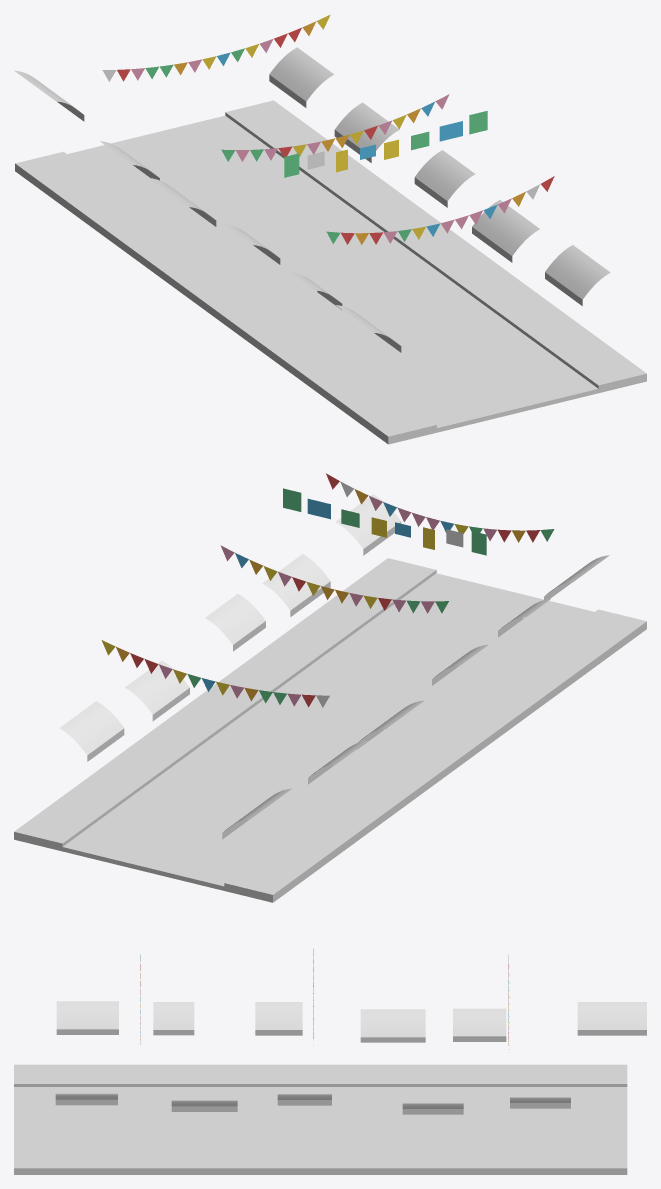
The model's file is Harita_09_Mahalle_Kebapcilar_Ozel.fbx.
3 renders of one model, top to bottom at view 1: azimuth 30°, elevation 25°; view 2: azimuth 150°, elevation 25°; view 3: azimuth 270°, elevation 25°, orthographic. The views are drawn at different scales.
Parts seen in each view (by area): view 1: Harita_09_Yol.001, Harita_09_Kaldirim_L.001, Harita_09_Kaldirim_R.001, Camasirlar.010, Tente.155, Tente.156, Tente.159, Tente.157, Tente.158, Bayraklar.038, Bayraklar.039, Bayraklar.040; view 2: Harita_09_Yol.001, Harita_09_Kaldirim_L.001, Harita_09_Kaldirim_R.001, Camasirlar.010, Tente.159, Tente.156, Tente.158, Tente.157, Bayraklar.039, Bayraklar.040, Bayraklar.038, Tente.155; view 3: Harita_09_Yol.001, Harita_09_Kaldirim_R.001, Harita_09_Kaldirim_L.001, Tente.154, Tente.152, Tente.149, Tente.153, Tente.151, Tente.150, Tente.155, Tente.156, Tente.158 (+2 smaller).
Boxes of the visible parts, x1,y1,x2,y2 form: Harita_09_Yol.001: (67, 115, 598, 432); Harita_09_Kaldirim_L.001: (15, 151, 436, 444); Harita_09_Kaldirim_R.001: (225, 100, 646, 392); Camasirlar.010: (284, 111, 487, 177); Tente.155: (545, 245, 610, 305); Tente.156: (472, 200, 539, 262); Tente.159: (269, 47, 333, 107); Tente.157: (414, 150, 475, 207); Tente.158: (334, 102, 399, 162); Bayraklar.038: (326, 176, 554, 244); Bayraklar.039: (221, 94, 449, 161); Bayraklar.040: (102, 14, 330, 81); Harita_09_Yol.001: (62, 573, 594, 890); Harita_09_Kaldirim_L.001: (224, 609, 646, 902); Harita_09_Kaldirim_R.001: (14, 558, 436, 851); Camasirlar.010: (283, 488, 486, 555); Tente.159: (59, 701, 124, 761); Tente.156: (262, 554, 330, 616); Tente.158: (125, 660, 189, 721); Tente.157: (205, 594, 265, 651); Bayraklar.039: (220, 545, 448, 613); Bayraklar.040: (101, 640, 329, 707); Bayraklar.038: (326, 473, 554, 542); Tente.155: (335, 494, 401, 555); Harita_09_Yol.001: (14, 1087, 627, 1148); Harita_09_Kaldirim_R.001: (14, 1149, 627, 1174); Harita_09_Kaldirim_L.001: (14, 1064, 627, 1086); Tente.154: (577, 1002, 646, 1035); Tente.152: (360, 1009, 425, 1042); Tente.149: (56, 1001, 118, 1034); Tente.153: (453, 1008, 506, 1041); Tente.151: (255, 1002, 302, 1035); Tente.150: (153, 1002, 194, 1035); Tente.155: (55, 1093, 117, 1105); Tente.156: (171, 1100, 237, 1111); Tente.158: (402, 1103, 463, 1114).
Bounding box in the file's own units: 12 × 8.17 × 30.96.
